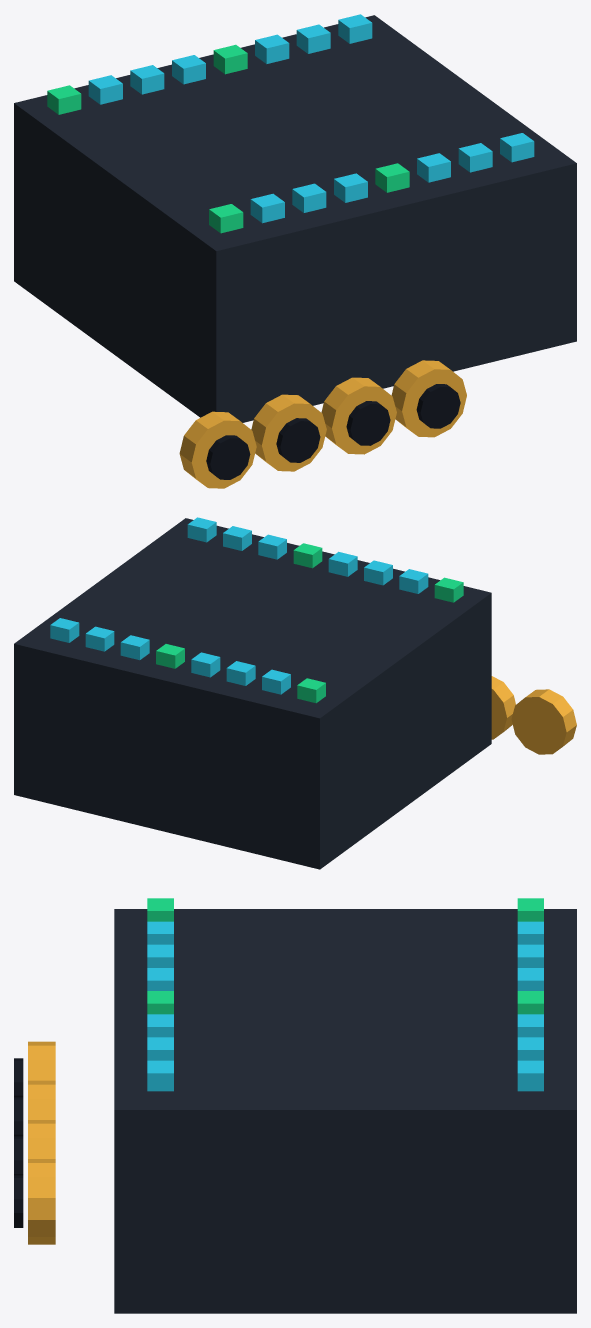
The model's file is 44_L86_DualJawGripperPressureSensorArray.fbx.
3 renders of one model, top to bottom at view 1: azimuth 30°, elevation 25°; view 2: azimuth 150°, elevation 25°; view 3: azimuth 270°, elevation 25°, orthographic. The views are drawn at different scales.
Parts seen in each view (by area): view 1: L86_DualJawGripperPressureSensorArray_Part_0000, L86_DualJawGripperPressureSensorArray_Part_0002, L86_DualJawGripperPressureSensorArray_Part_0001, L86_DualJawGripperPressureSensorArray_Part_0003, L86_DualJawGripperPressureSensorArray_Part_0007, L86_DualJawGripperPressureSensorArray_Part_0005, L86_DualJawGripperPressureSensorArray_Part_0009, L86_DualJawGripperPressureSensorArray_Part_0004, L86_DualJawGripperPressureSensorArray_Part_0008, L86_DualJawGripperPressureSensorArray_Part_0006, L86_DualJawGripperPressureSensorArray_Part_0010; view 2: L86_DualJawGripperPressureSensorArray_Part_0000, L86_DualJawGripperPressureSensorArray_Part_0002, L86_DualJawGripperPressureSensorArray_Part_0003, L86_DualJawGripperPressureSensorArray_Part_0001, L86_DualJawGripperPressureSensorArray_Part_0005; view 3: L86_DualJawGripperPressureSensorArray_Part_0000, L86_DualJawGripperPressureSensorArray_Part_0002, L86_DualJawGripperPressureSensorArray_Part_0001, L86_DualJawGripperPressureSensorArray_Part_0009, L86_DualJawGripperPressureSensorArray_Part_0003, L86_DualJawGripperPressureSensorArray_Part_0005, L86_DualJawGripperPressureSensorArray_Part_0007, L86_DualJawGripperPressureSensorArray_Part_0010.
Boxes of the visible parts, left/top/right/bottom form: L86_DualJawGripperPressureSensorArray_Part_0000: left=14, top=15, right=576, bottom=422; L86_DualJawGripperPressureSensorArray_Part_0002: left=88, top=14, right=534, bottom=223; L86_DualJawGripperPressureSensorArray_Part_0001: left=47, top=44, right=409, bottom=233; L86_DualJawGripperPressureSensorArray_Part_0003: left=179, top=411, right=256, bottom=488; L86_DualJawGripperPressureSensorArray_Part_0007: left=321, top=377, right=396, bottom=454; L86_DualJawGripperPressureSensorArray_Part_0005: left=251, top=394, right=326, bottom=471; L86_DualJawGripperPressureSensorArray_Part_0009: left=391, top=360, right=466, bottom=437; L86_DualJawGripperPressureSensorArray_Part_0004: left=206, top=435, right=250, bottom=479; L86_DualJawGripperPressureSensorArray_Part_0008: left=346, top=401, right=390, bottom=445; L86_DualJawGripperPressureSensorArray_Part_0006: left=276, top=418, right=320, bottom=462; L86_DualJawGripperPressureSensorArray_Part_0010: left=416, top=384, right=460, bottom=428; L86_DualJawGripperPressureSensorArray_Part_0000: left=14, top=518, right=491, bottom=869; L86_DualJawGripperPressureSensorArray_Part_0002: left=50, top=517, right=428, bottom=694; L86_DualJawGripperPressureSensorArray_Part_0003: left=511, top=689, right=576, bottom=754; L86_DualJawGripperPressureSensorArray_Part_0001: left=156, top=543, right=463, bottom=703; L86_DualJawGripperPressureSensorArray_Part_0005: left=491, top=676, right=515, bottom=739; L86_DualJawGripperPressureSensorArray_Part_0000: left=114, top=909, right=576, bottom=1313; L86_DualJawGripperPressureSensorArray_Part_0002: left=147, top=921, right=543, bottom=1091; L86_DualJawGripperPressureSensorArray_Part_0001: left=147, top=898, right=543, bottom=1014; L86_DualJawGripperPressureSensorArray_Part_0009: left=28, top=1159, right=55, bottom=1244; L86_DualJawGripperPressureSensorArray_Part_0003: left=28, top=1041, right=55, bottom=1080; L86_DualJawGripperPressureSensorArray_Part_0005: left=28, top=1080, right=55, bottom=1119; L86_DualJawGripperPressureSensorArray_Part_0007: left=28, top=1120, right=55, bottom=1158; L86_DualJawGripperPressureSensorArray_Part_0010: left=14, top=1175, right=23, bottom=1227.
Bounding box in the file's own units: 84.5 × 42.12 × 85.2.
